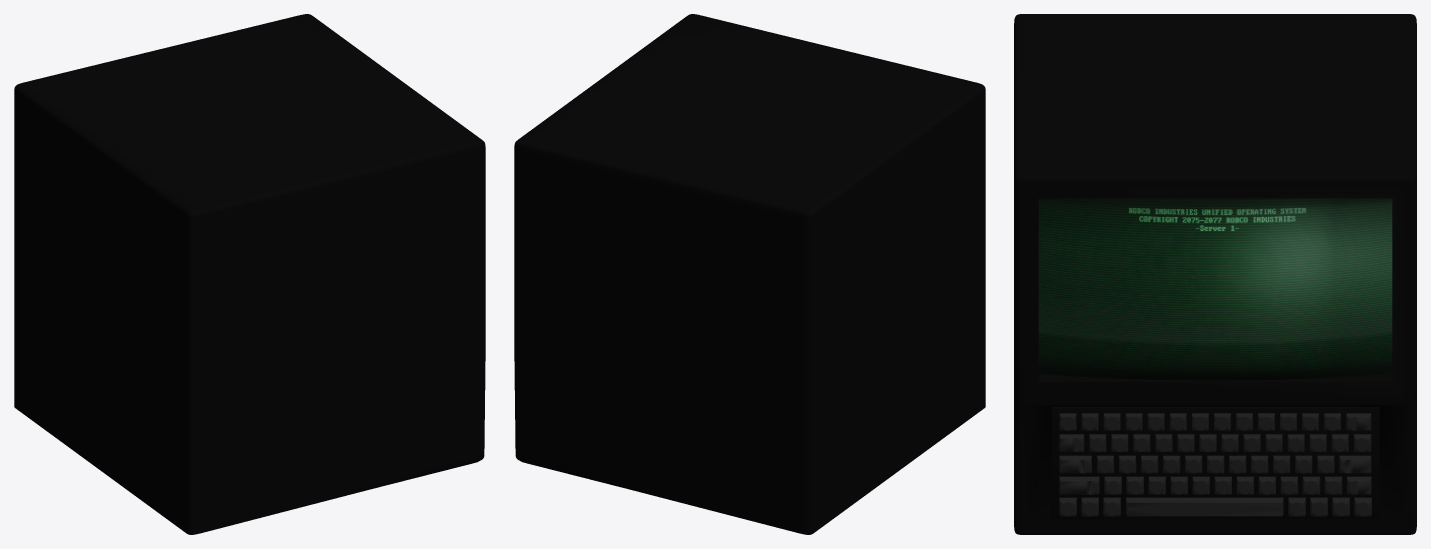
File: LolzComputer3.fbx
3 views of the same model, side by side, from view 1: azimuth 30°, elevation 25°; view 2: azimuth 150°, elevation 25°; view 3: azimuth 270°, elevation 25° (orthographic). The views are drawn at different scales.
Visible parts, largest first — view 1: Computer; view 2: Computer; view 3: Computer.
Boxes of the visible parts, x1=… form: Computer: x1=14, y1=14, x2=485, y2=534; Computer: x1=514, y1=14, x2=985, y2=534; Computer: x1=1014, y1=14, x2=1416, y2=534.
Bounding box in the file's own units: 101 × 100 × 100.
